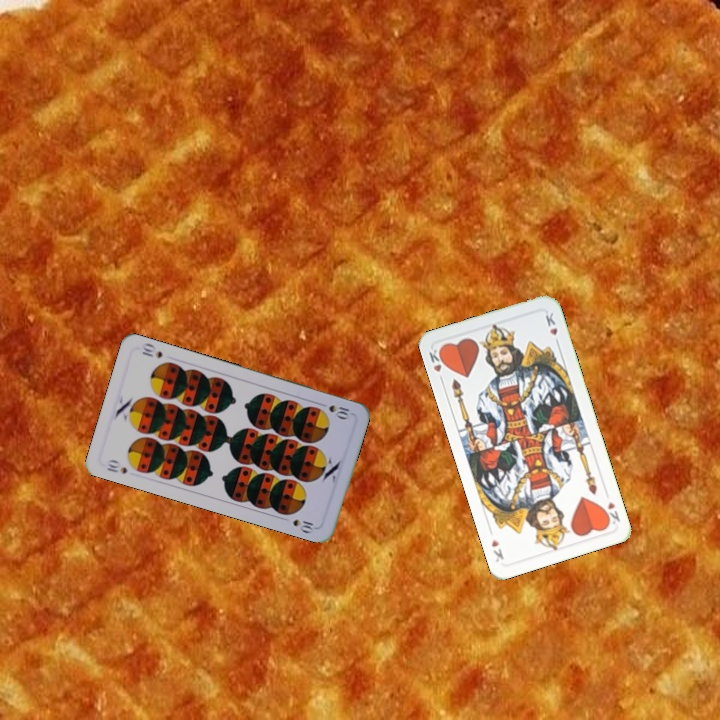HK: (425, 344, 449, 385), (599, 497, 623, 529)
S10: (315, 398, 354, 421), (102, 456, 131, 477)
